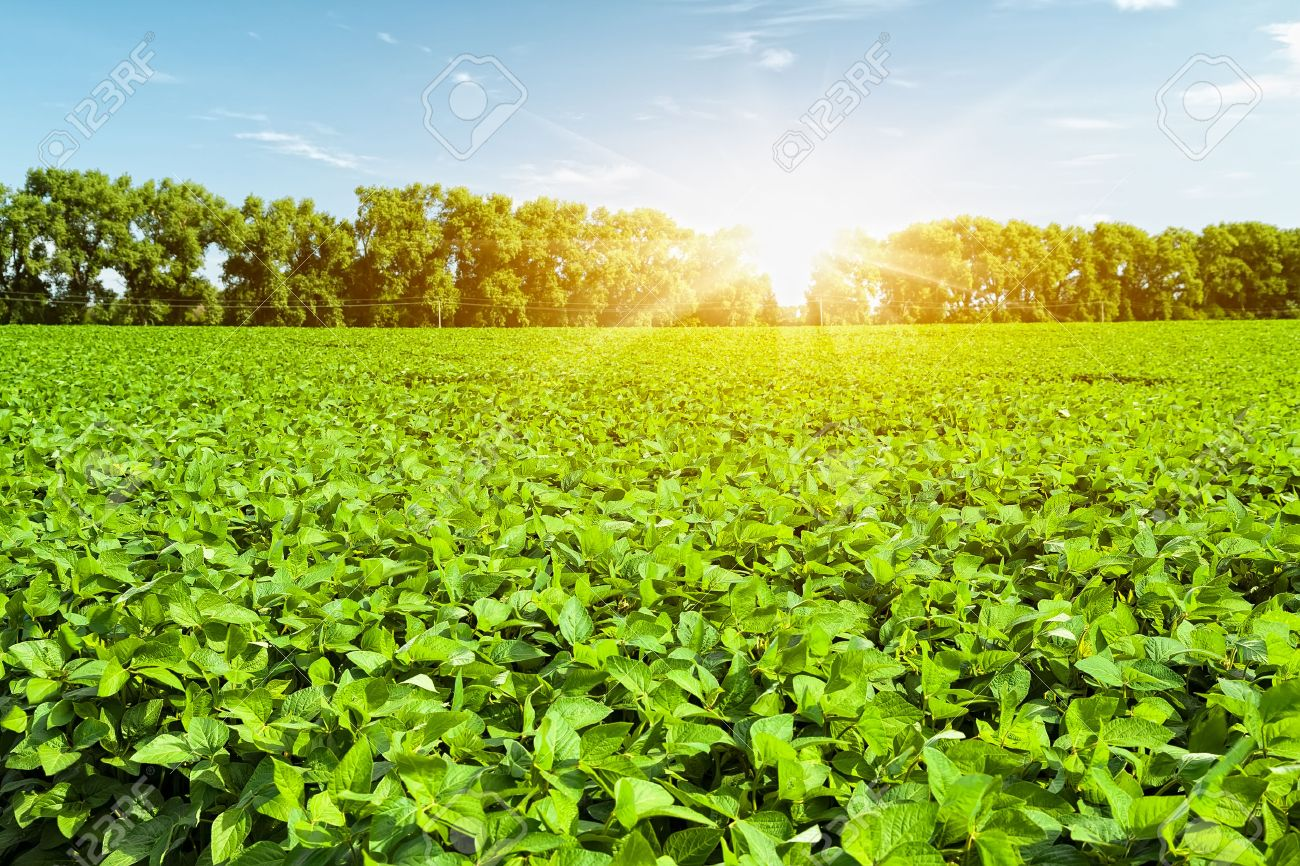soyabean: (2, 490, 1294, 777), (214, 626, 1294, 864)
